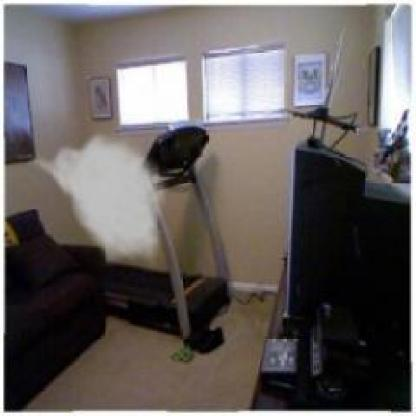Smoke: (25, 128, 169, 270)
